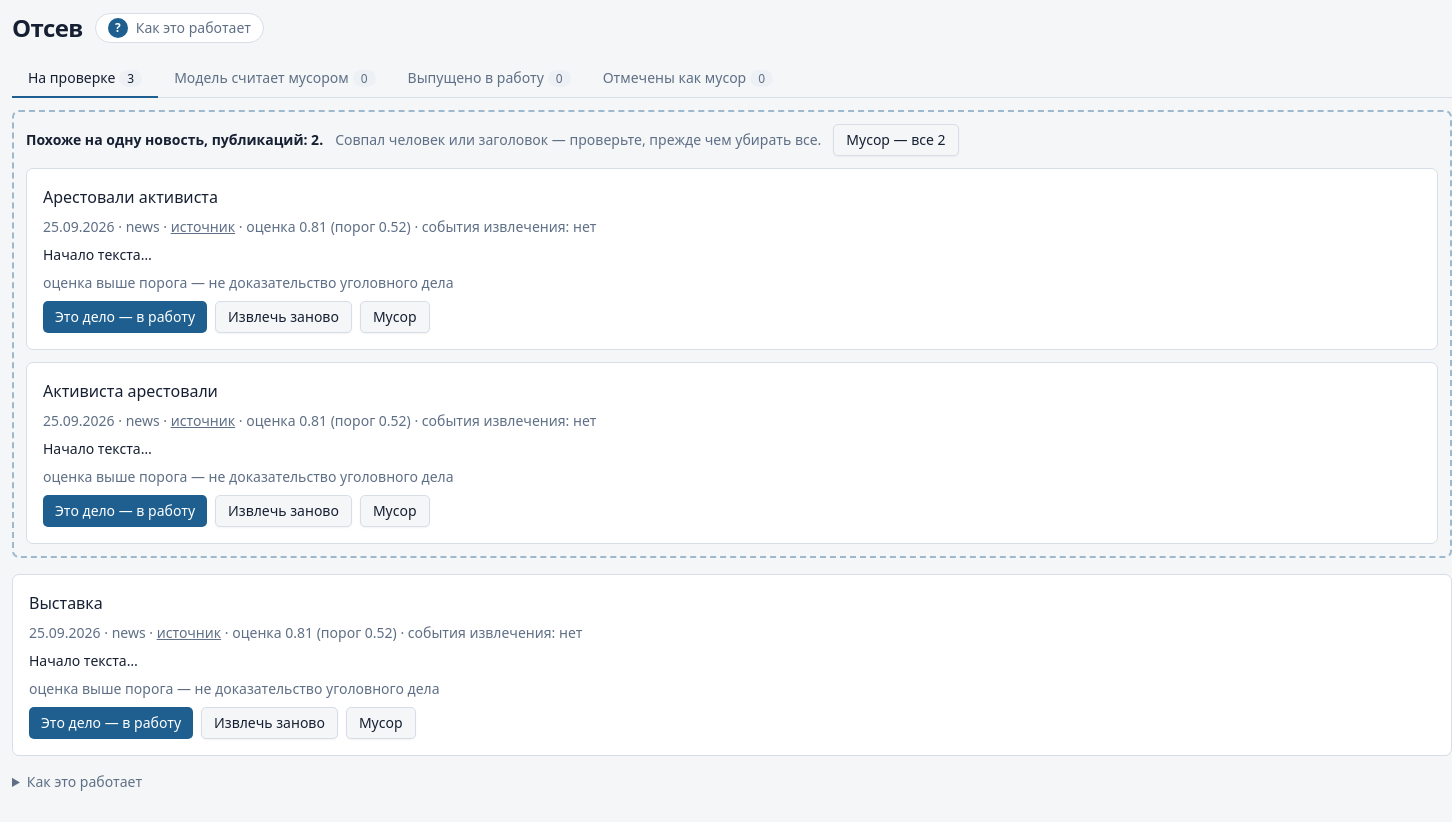
Test: says when extracting again returned an article to work
Step 1. Click the button "Извлечь заново" below "Выставка" → [270, 723], box x1=201 y1=707 x2=338 y2=739
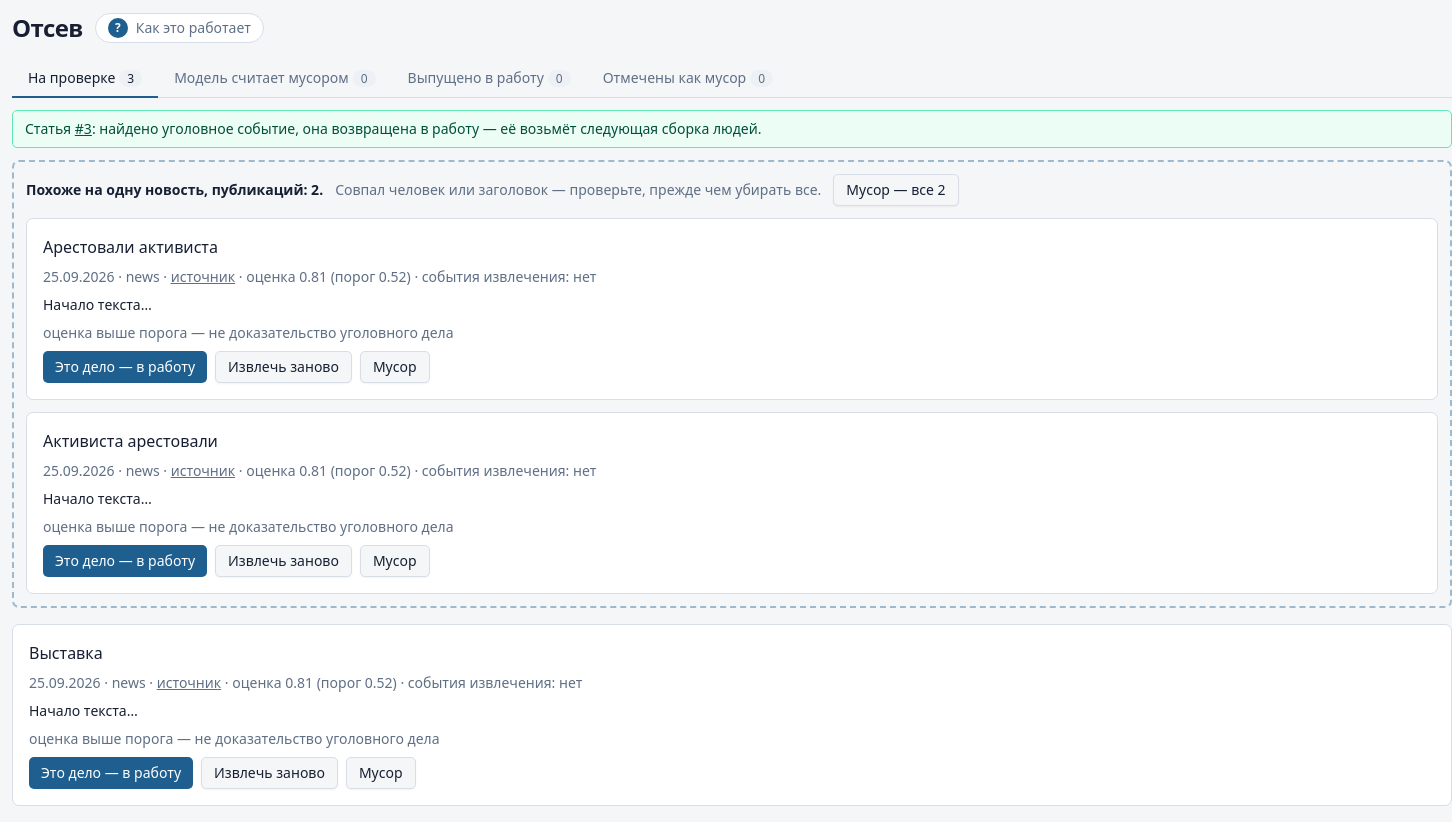
Now the text "найдено уголовное событие, она возвращена в работу" is shown, box x1=92 y1=119 x2=762 y2=138
